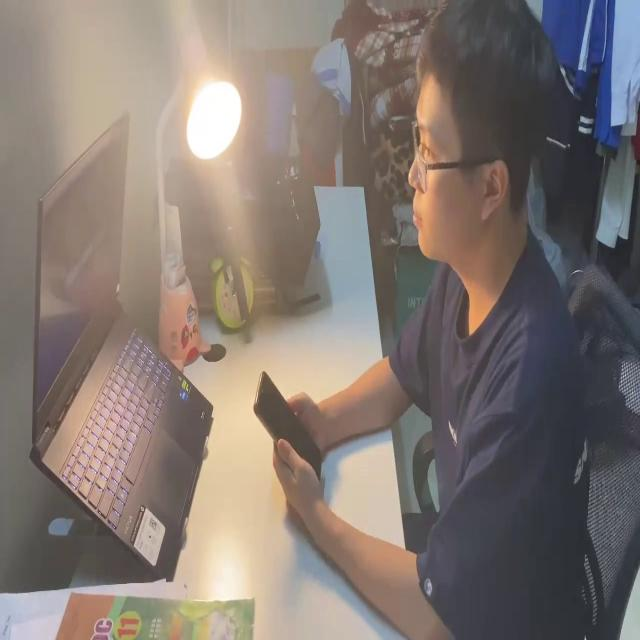book: (0, 579, 259, 640)
laptop: (27, 112, 214, 584)
phone: (254, 364, 324, 491)
student: (271, 0, 593, 640)
